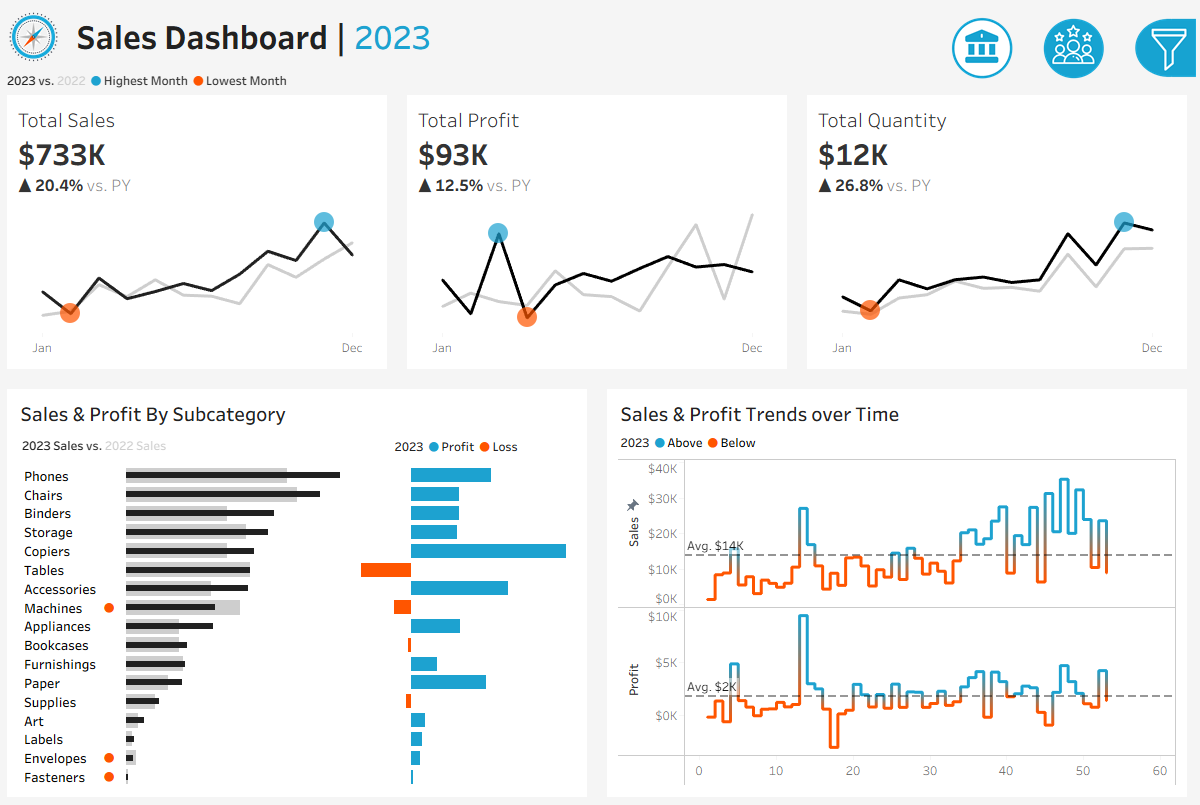

This screenshot's page, from the dashboard's own definition file:
{"tool":"tableau","page":{"name":"Sales Dashboard","canvas":[1200,800],"ordinal":1},"visuals":[{"type":"image","param":"C:/Users/hardi/Desktop/Sales Project/Book1.twb Files/Image/Icon - Logo.png","box":[0,0,73,59]},{"type":"text","box":[73,0,820,59]},{"type":"dashboard-object","box":[940,6,91,70]},{"type":"dashboard-object","box":[1031,6,91,70]},{"type":"blank","box":[952,10,237,86]},{"type":"worksheet","title":"Legend KPI","mark":"Automatic","box":[0,59,1200,29]},{"type":"worksheet","title":"KPI Sales","mark":"Automatic","rows":["Calculation_721701895347843083"],"cols":["Order Date"],"box":[0,88,400,284]},{"type":"worksheet","title":"KPI Profit","mark":"Automatic","rows":["Min/Max Sales (copy)_237846410425847814"],"cols":["Order Date"],"box":[400,88,400,284]},{"type":"worksheet","title":"KPI Quantity","mark":"Automatic","rows":["Min/Max Sales (copy) (copy)_237846410425856007"],"cols":["Order Date"],"box":[800,88,400,284]},{"type":"text","box":[952,96,237,37]},{"type":"parameter","param":"[Parameters].[Parameter 1]","box":[952,133,237,55]},{"type":"text","box":[952,188,237,32]},{"type":"filter","title":"KPI Sales","param":"[federated.1kpxa041aiai2y1cl4pui1t4eju9].[none:Category:nk]","box":[952,220,237,57]},{"type":"filter","title":"KPI Sales","param":"[federated.1kpxa041aiai2y1cl4pui1t4eju9].[none:Sub-Category:nk]","box":[952,277,237,57]},{"type":"blank","box":[952,334,237,60]},{"type":"text","box":[17,389,566,34]},{"type":"text","box":[617,389,566,34]},{"type":"text","box":[952,394,237,32]},{"type":"worksheet","title":"Legend Subcategory","mark":"Automatic","box":[17,423,374,32]},{"type":"text","box":[391,423,192,32]},{"type":"text","box":[617,423,566,25]},{"type":"filter","title":"KPI Sales","param":"[federated.1kpxa041aiai2y1cl4pui1t4eju9].[none:Region:nk]","box":[952,426,237,57]},{"type":"worksheet","title":"Weekly Trends","mark":"Automatic","rows":["Calculation_721701895334993921","CY Sales (copy)_237846410424180736"],"cols":["Order Date"],"box":[617,448,566,335]},{"type":"worksheet","title":"Subcategory Comparison","mark":"Bar","rows":["Sub-Category","Calculation_2435040078806671369"],"cols":["CY Sales (copy)_721701895335804930","Calculation_721701895334993921","CY Sales (copy)_237846410424180736"],"box":[17,455,566,327.9]},{"type":"filter","title":"KPI Sales","param":"[federated.1kpxa041aiai2y1cl4pui1t4eju9].[none:State:nk]","box":[952,483,237,57]},{"type":"filter","title":"KPI Sales","param":"[federated.1kpxa041aiai2y1cl4pui1t4eju9].[none:City:nk]","box":[952,540,237,57]}]}

Visuals, with their boxes in screenshot pixels (x1, y1, x2, y2), scaled from the page's 1200x800 canvas onto the 1200x805 screenshot:
image: bbox(0, 0, 73, 59)
text: bbox(73, 0, 893, 59)
dashboard-object: bbox(940, 6, 1031, 76)
dashboard-object: bbox(1031, 6, 1122, 76)
blank: bbox(952, 10, 1189, 97)
"Legend KPI" worksheet: bbox(0, 59, 1199, 89)
"KPI Sales" worksheet: bbox(0, 89, 400, 374)
"KPI Profit" worksheet: bbox(400, 89, 800, 374)
"KPI Quantity" worksheet: bbox(800, 89, 1199, 374)
text: bbox(952, 97, 1189, 134)
parameter: bbox(952, 134, 1189, 189)
text: bbox(952, 189, 1189, 221)
"KPI Sales" filter: bbox(952, 221, 1189, 279)
"KPI Sales" filter: bbox(952, 279, 1189, 336)
blank: bbox(952, 336, 1189, 396)
text: bbox(17, 391, 583, 426)
text: bbox(617, 391, 1183, 426)
text: bbox(952, 396, 1189, 429)
"Legend Subcategory" worksheet: bbox(17, 426, 391, 458)
text: bbox(391, 426, 583, 458)
text: bbox(617, 426, 1183, 451)
"KPI Sales" filter: bbox(952, 429, 1189, 486)
"Weekly Trends" worksheet: bbox(617, 451, 1183, 788)
"Subcategory Comparison" worksheet (Bar marks): bbox(17, 458, 583, 788)
"KPI Sales" filter: bbox(952, 486, 1189, 543)
"KPI Sales" filter: bbox(952, 543, 1189, 601)
